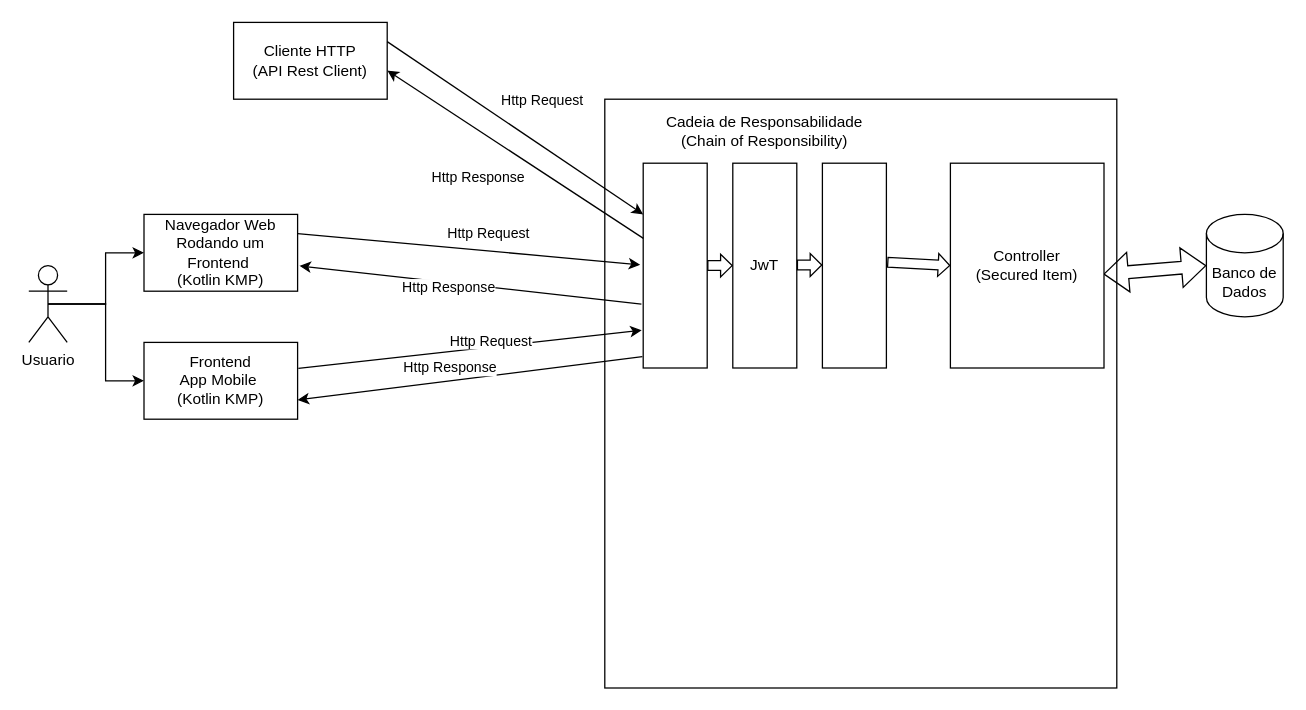
Some shapes in this 1306 by 710 pixel diagram are drawn without their labels. Each missing label, with the box of its shape:
Back End (Spring Boot + Kotlin): (604, 98, 1117, 688)
Filtro Não Implementado: (821, 162, 886, 368)
Spring Security: (642, 162, 707, 368)
